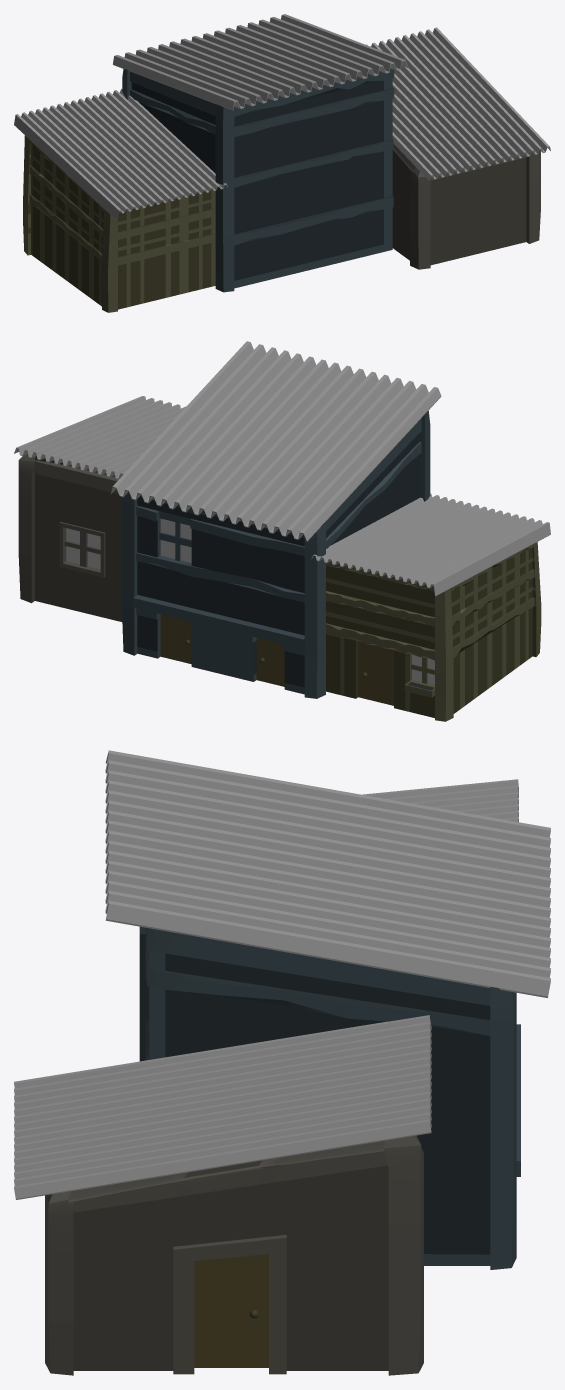
Rendered from Slum 3.fbx.
The picture shows the model from 3 angles, top to bottom: view 1: azimuth 30°, elevation 25°; view 2: azimuth 150°, elevation 25°; view 3: azimuth 270°, elevation 25°; orthographic projection. The views are drawn at different scales.
Parts seen in each view (by area): view 1: crate_material:pasted__pCube55; view 2: crate_material:pasted__pCube55; view 3: crate_material:pasted__pCube55.
Part boxes in pixels (left/top/right/bottom): crate_material:pasted__pCube55: left=14, top=14, right=550, bottom=312; crate_material:pasted__pCube55: left=14, top=341, right=550, bottom=721; crate_material:pasted__pCube55: left=14, top=750, right=550, bottom=1375.
Bounding box in the file's own units: 2.39 × 1.12 × 1.5.
